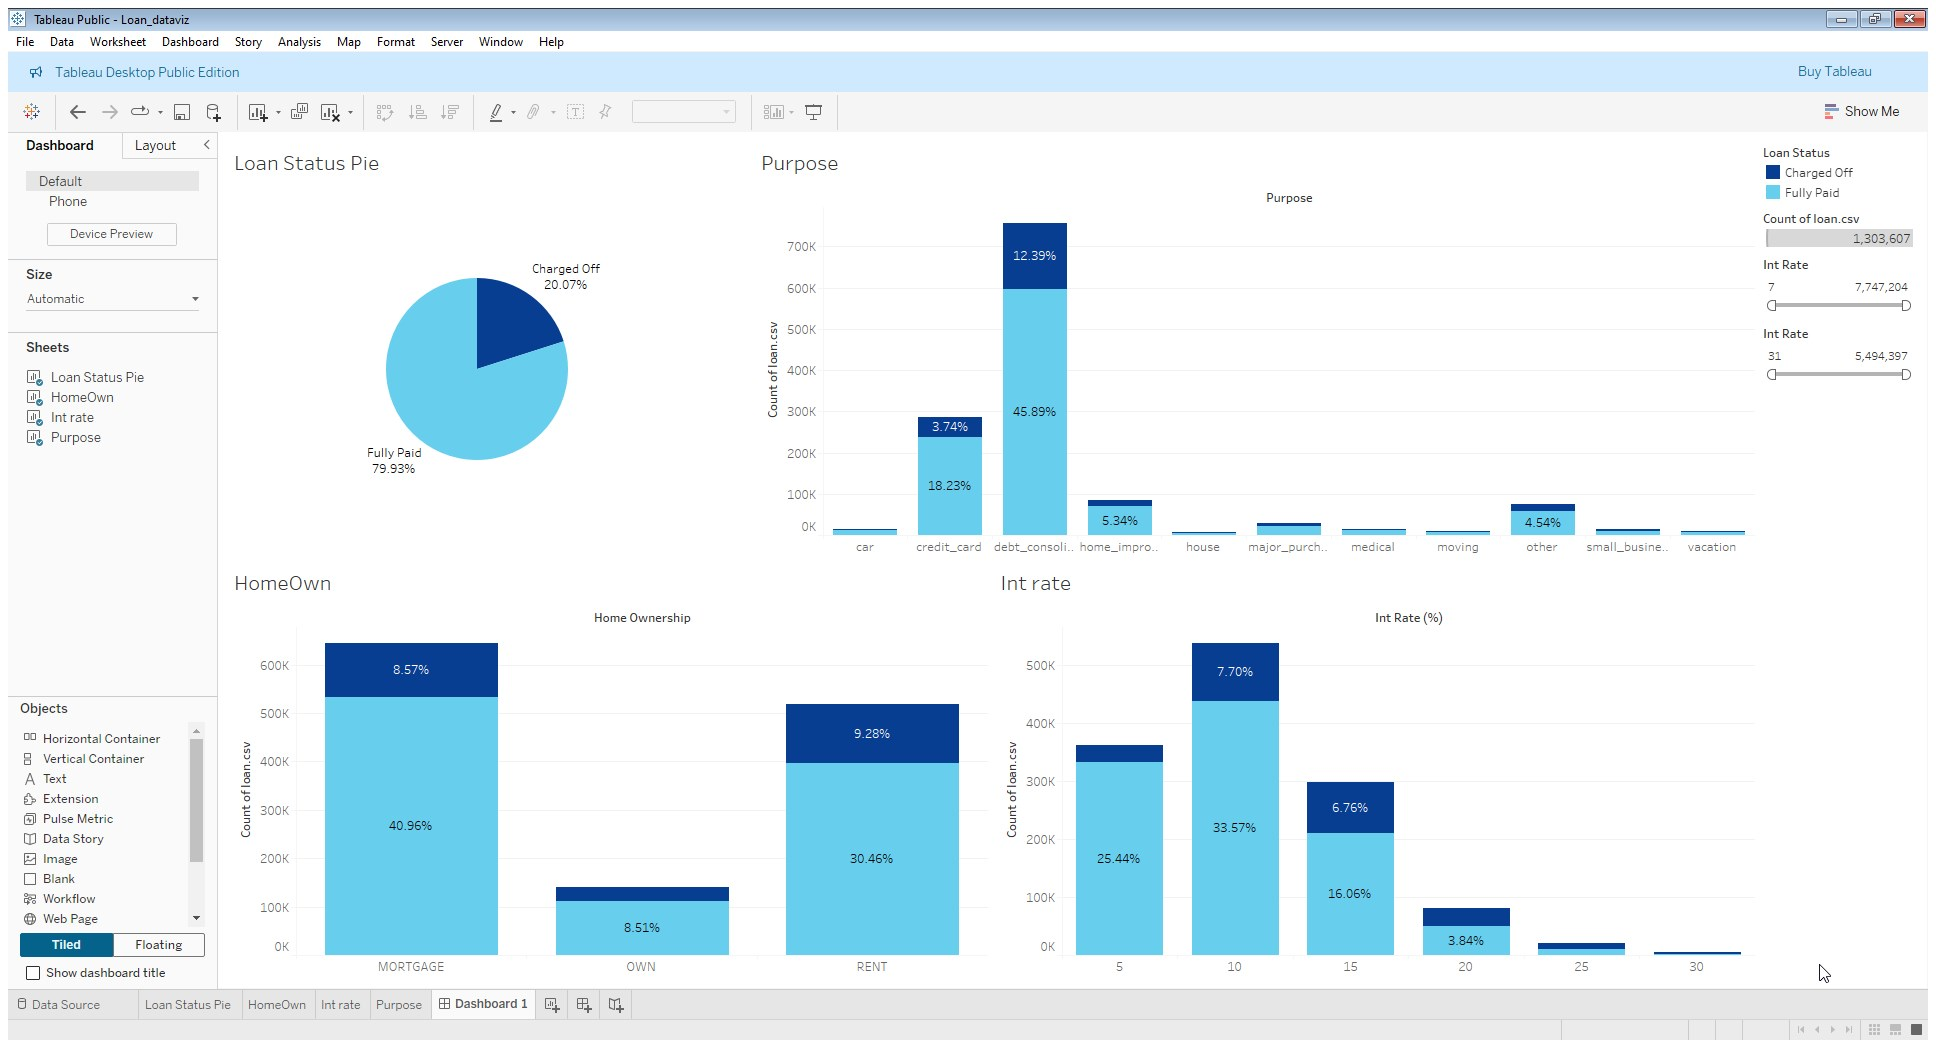

This screenshot's page, from the dashboard's own definition file:
{"tool":"tableau","page":{"name":"Dashboard 1","canvas":[1000,1000],"units":"permille","ordinal":0},"visuals":[{"type":"worksheet","title":"Loan Status Pie","mark":"Pie","box":[4.7,9.3,308.4,490.7]},{"type":"worksheet","title":"Purpose","mark":"Automatic","rows":["loan.csv_C2A3487D2C11480AAE6D03C5B15EC91F"],"cols":["purpose"],"box":[313.1,9.3,588.6,490.7]},{"type":"legend","title":"Loan Status Pie","param":"[federated.138ibmv17iln591awcqg1181ol92].[none:loan_status:nk]","box":[901.7,9.3,93.6,77.1]},{"type":"legend","title":"Loan Status Pie","param":"[federated.138ibmv17iln591awcqg1181ol92].[__tableau_internal_object_id__].[cnt:l","box":[901.7,86.5,93.6,53.7]},{"type":"filter","title":"Purpose","param":"[federated.138ibmv17iln591awcqg1181ol92].[sum:int_rate:qk]","box":[901.7,140.2,93.6,80.6]},{"type":"filter","title":"Int rate","param":"[federated.138ibmv17iln591awcqg1181ol92].[sum:int_rate:qk]","box":[901.7,220.8,93.6,80.6]},{"type":"worksheet","title":"HomeOwn","mark":"Automatic","rows":["loan.csv_C2A3487D2C11480AAE6D03C5B15EC91F"],"cols":["home_ownership"],"box":[4.7,500,448.5,490.7]},{"type":"worksheet","title":"Int rate","mark":"Automatic","rows":["loan.csv_C2A3487D2C11480AAE6D03C5B15EC91F"],"cols":["Int Rate (bin)"],"box":[453.2,500,448.5,490.7]}]}

Visuals, with their boxes on the dashboard's canvas, which has no fixed pixel size, in thousandths of its width and height (x1, y1, x2, y2). These are canvas units, not pixel positions in the 1936x1048 screenshot, which may show the page scaled, cropped or inside an application window:
"Loan Status Pie" worksheet (Pie marks): (5, 9, 313, 500)
"Purpose" worksheet: (313, 9, 902, 500)
"Loan Status Pie" legend: (902, 9, 995, 86)
"Loan Status Pie" legend: (902, 86, 995, 140)
"Purpose" filter: (902, 140, 995, 221)
"Int rate" filter: (902, 221, 995, 301)
"HomeOwn" worksheet: (5, 500, 453, 991)
"Int rate" worksheet: (453, 500, 902, 991)
